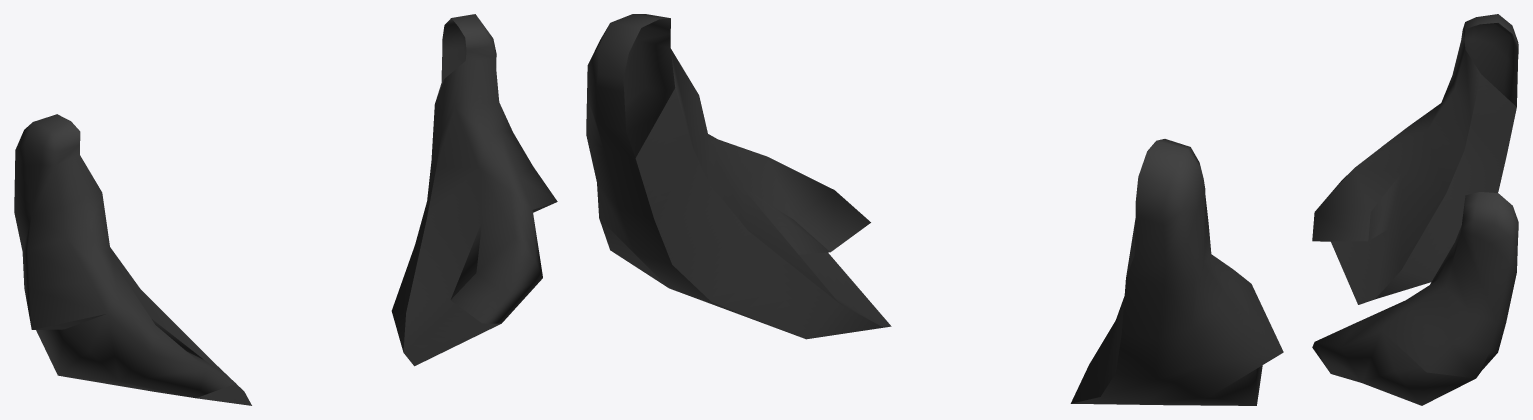
Rendered from Beard_Black_9.fbx.
3 renders of one model, left to right at view 1: azimuth 30°, elevation 25°; view 2: azimuth 150°, elevation 25°; view 3: azimuth 270°, elevation 25°, orthographic. The views are drawn at different scales.
Visible parts, largest first — view 1: Beard_Black_9; view 2: Beard_Black_9; view 3: Beard_Black_9.
Part boxes in pixels (<box>): Beard_Black_9: <box>14,14,557,405</box>; Beard_Black_9: <box>586,14,1283,405</box>; Beard_Black_9: <box>1312,14,1518,405</box>.
Size of the model in its own units: 58.92 by 28.07 by 22.62.
